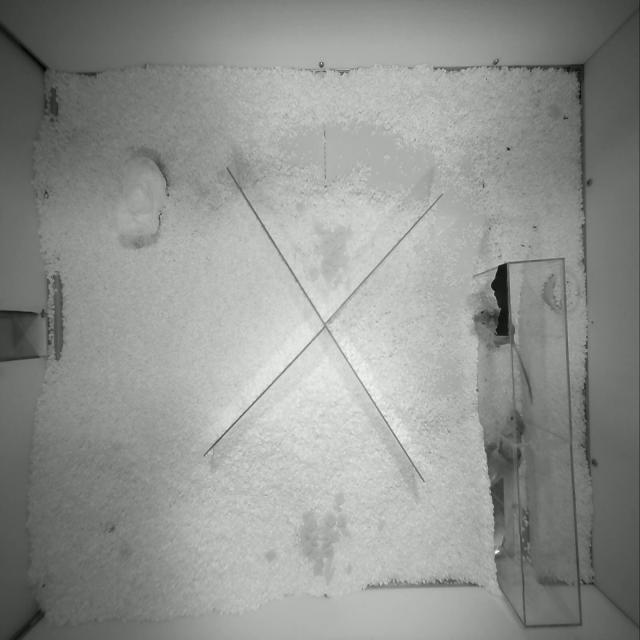adult_back: (474, 311, 532, 401)
adult_front: (488, 411, 524, 486)
